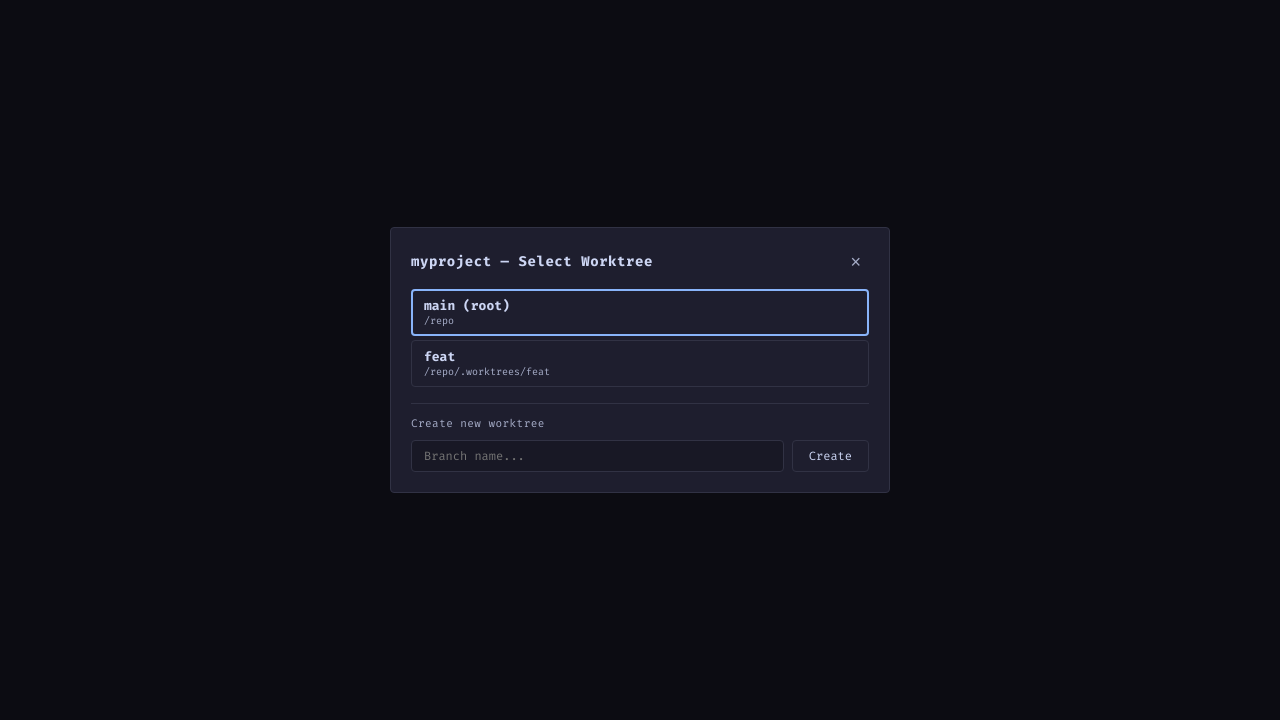
Test: WorktreeDialog › shows error when create worktree fails
The width and height of the screenshot is (1280, 720).
Expected: the text "main (root)" is shown, [424,298,510,313]
Type "existing-branch" into the field with placeholder "Branch name...". click: (597, 456)
box: [411,440,784,472]
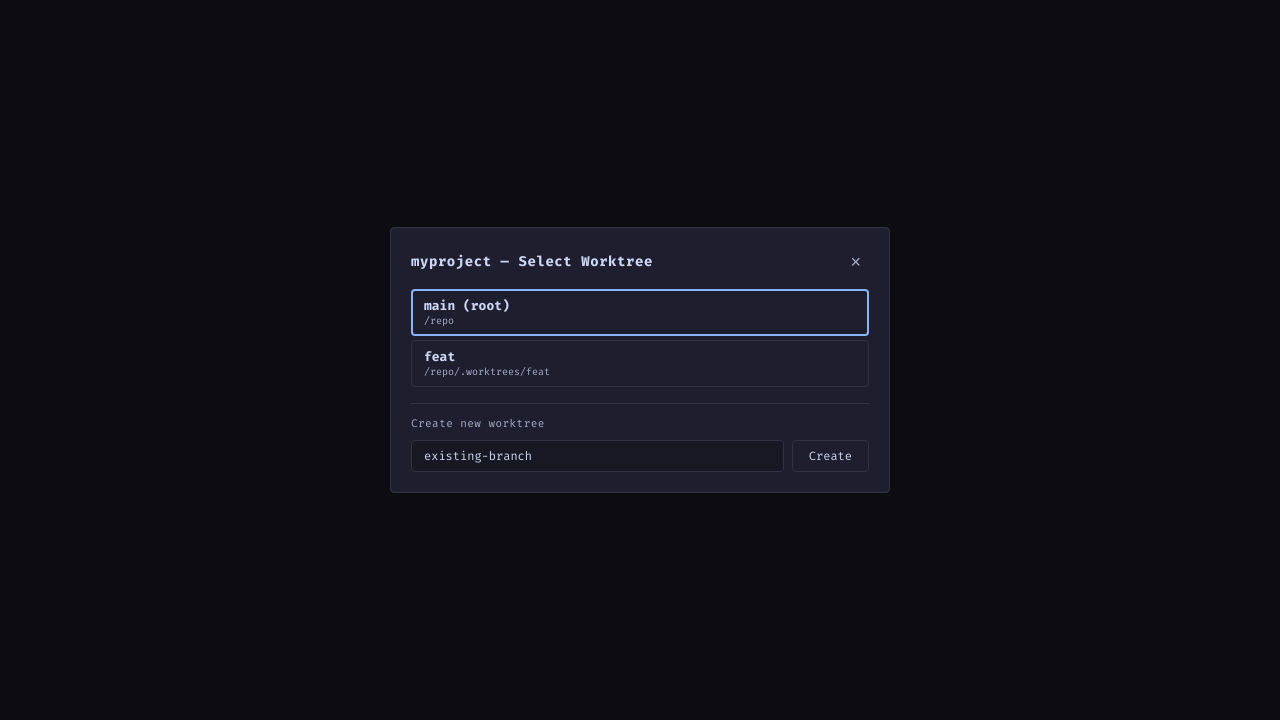
Click the button "Create". click: (830, 456)
box: [792,440,869,472]
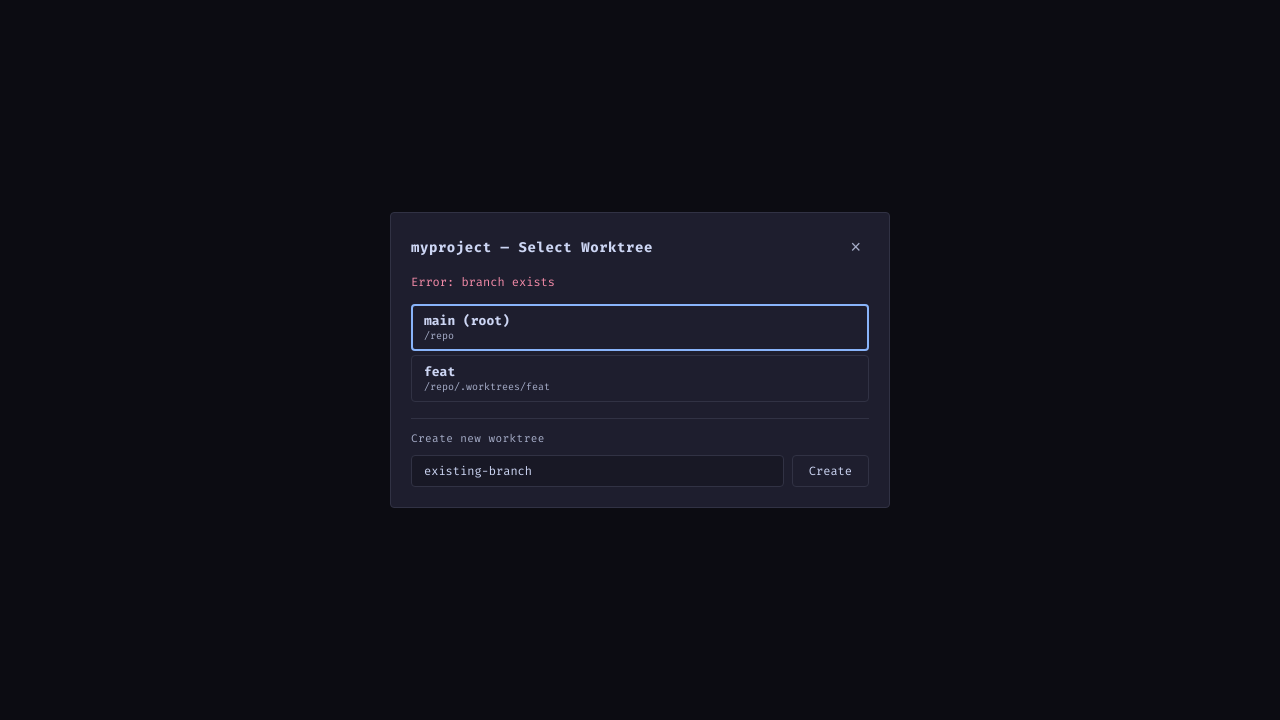
Now the text "Error: branch exists" is shown, box [411,275,555,289]
